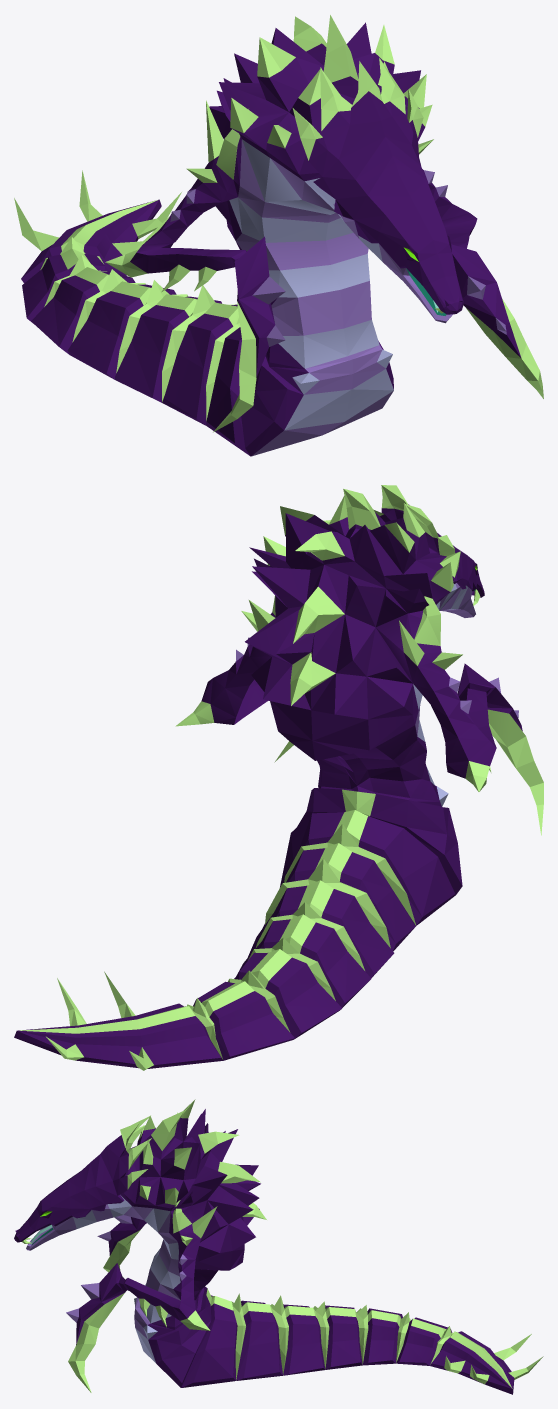
The model's file is Walk (34).obj.
3 renders of one model, top to bottom at view 1: azimuth 30°, elevation 25°; view 2: azimuth 150°, elevation 25°; view 3: azimuth 270°, elevation 25°, orthographic. The views are drawn at different scales.
Parts seen in each view (by area): view 1: Alien_Serpent; view 2: Alien_Serpent; view 3: Alien_Serpent.
Boxes of the visible parts, x1,y1,x2,y2 form: Alien_Serpent: [14, 15, 543, 456]; Alien_Serpent: [14, 485, 543, 1070]; Alien_Serpent: [14, 1099, 543, 1394].
Bounding box in the file's own units: 186 × 217 × 393.
1 material, 1 textured.
